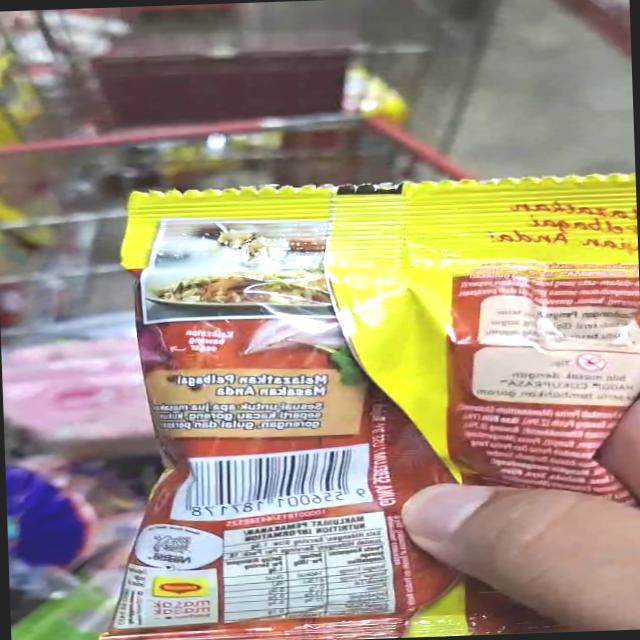Maggi Cukup Rasa: (66, 164, 640, 640)
